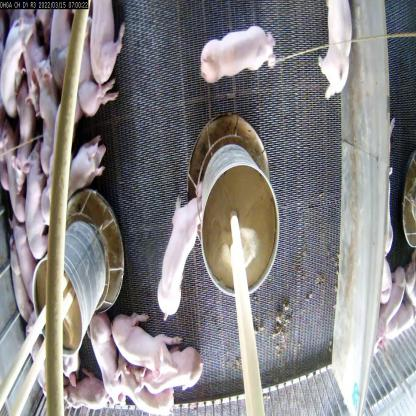Pig: (152, 190, 205, 322), (190, 14, 274, 85), (310, 0, 358, 113), (84, 310, 129, 415), (111, 309, 179, 378), (18, 140, 51, 260), (140, 345, 211, 397), (61, 135, 112, 203), (32, 50, 62, 165), (87, 0, 124, 93), (0, 3, 34, 104), (120, 356, 174, 416)
